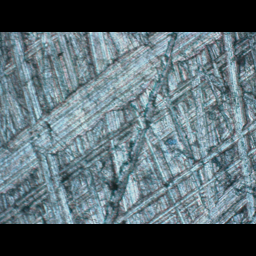d: (15, 47, 190, 211)
